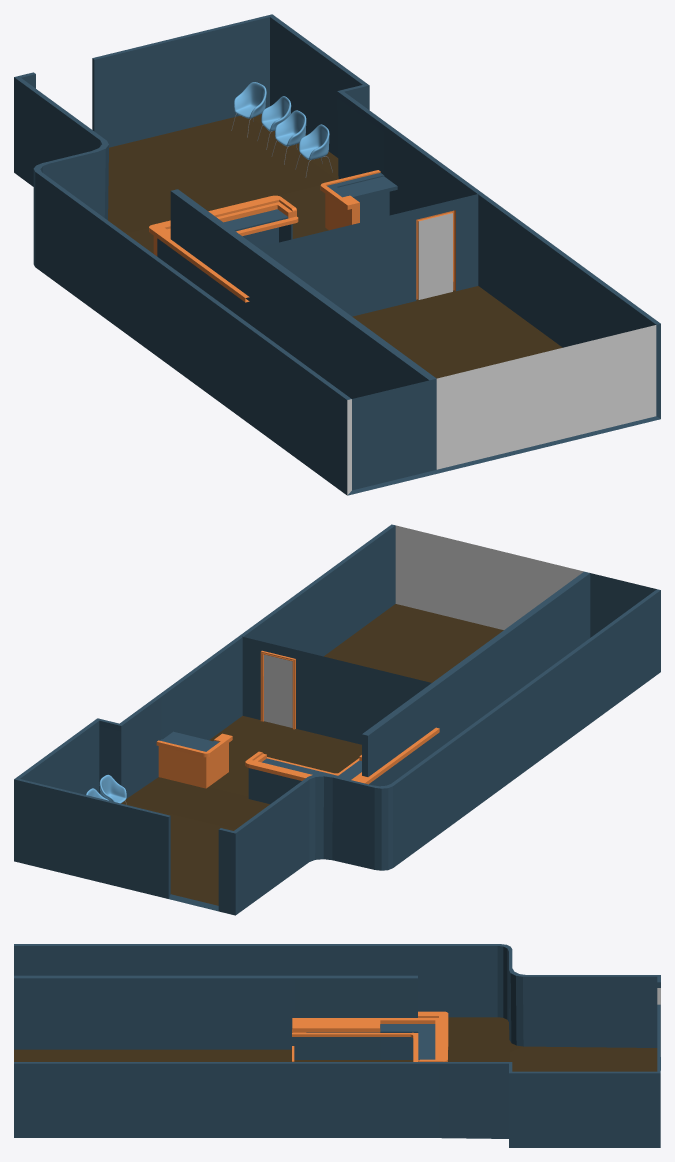
Rendered from hospital.fbx.
3 views of the same model, one above another, from view 1: azimuth 30°, elevation 25°; view 2: azimuth 150°, elevation 25°; view 3: azimuth 270°, elevation 25° (orthographic). The views are drawn at different scales.
Visible parts, largest first — view 1: hospital, chair, chair.001, chair.002, chair.003; view 2: hospital; view 3: hospital.
Boxes of the visible parts, x1,y1,x2,y2 form: hospital: (14,14,660,495); chair: (231,82,266,137); chair.001: (295,124,332,177); chair.002: (271,110,306,164); chair.003: (257,96,294,149); hospital: (14,524,660,915); hospital: (14,944,660,1147).
Size of the model in its own units: 3160 by 870 by 6687.
